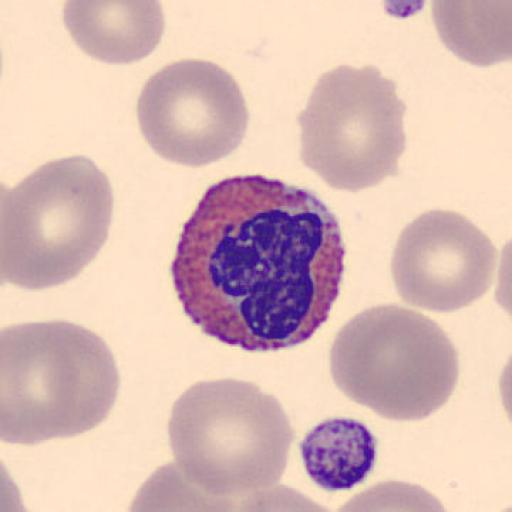Platelet: (296, 414, 382, 494)
RBC: (327, 301, 461, 424), (164, 375, 297, 497), (0, 153, 115, 293), (296, 61, 409, 194), (135, 56, 250, 170), (2, 320, 100, 446), (24, 318, 122, 442), (389, 207, 497, 315), (61, 0, 166, 66), (124, 462, 242, 512), (429, 0, 512, 69), (327, 476, 457, 512), (228, 481, 348, 512), (492, 227, 512, 322), (0, 458, 33, 512), (496, 349, 512, 425)
WBC: (167, 174, 349, 354)
